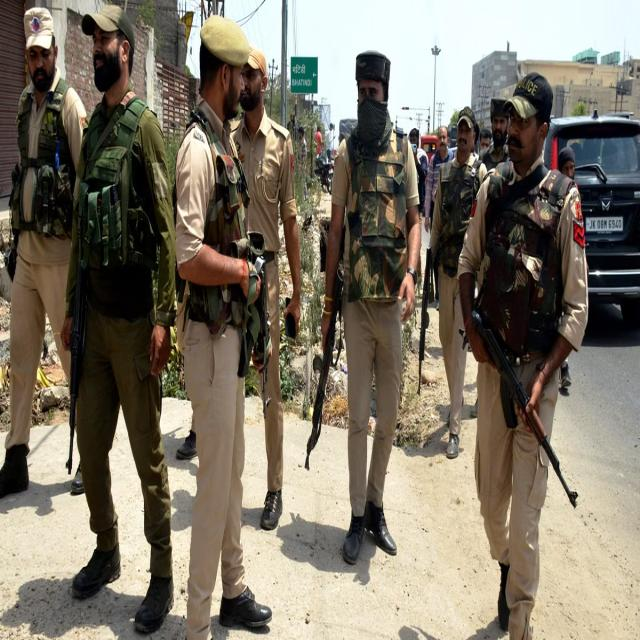plate: (585, 214, 624, 234)
